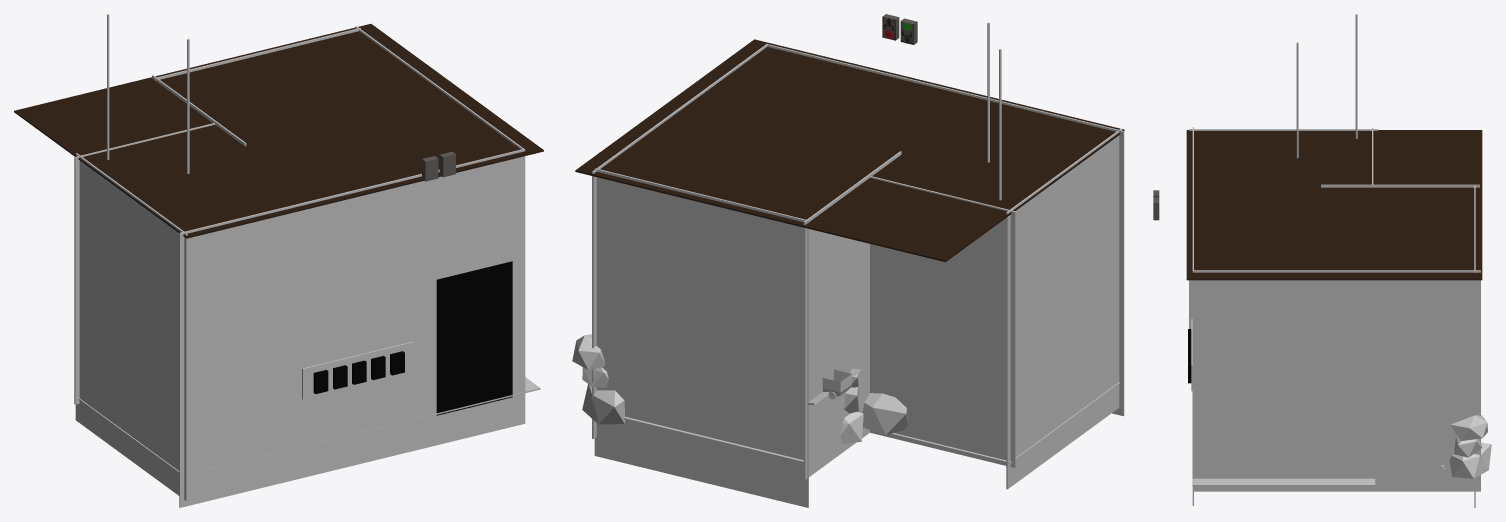
File: minelevel.fbx
3 views of the same model, side by side, from view 1: azimuth 30°, elevation 25°; view 2: azimuth 150°, elevation 25°; view 3: azimuth 270°, elevation 25° (orthographic). The views are drawn at different scales.
Parts seen in each view (by area): view 1: map, roof, switchInterface, lift; view 2: map, roof, lift; view 3: map, roof, lift.
Part boxes in pixels (<box>): map: <box>74,26,540,507</box>; roof: <box>14,24,543,238</box>; switchInterface: <box>302,341,413,399</box>; lift: <box>107,14,189,173</box>; map: <box>572,44,1124,507</box>; roof: <box>575,39,1124,261</box>; lift: <box>987,22,1001,200</box>; map: <box>1189,127,1491,507</box>; roof: <box>1186,130,1482,280</box>; lift: <box>1296,14,1357,158</box>.
Size of the model in its own units: 3842 by 4197 by 3586.
